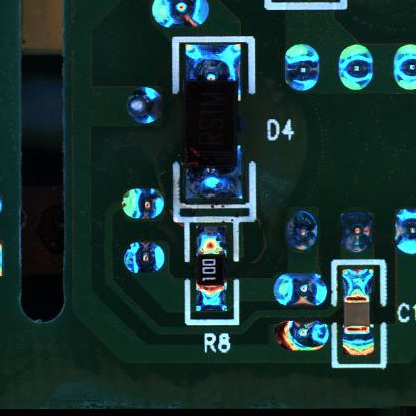spot: (271, 272, 329, 305), (149, 1, 212, 31), (273, 319, 329, 352), (283, 42, 319, 92), (339, 43, 373, 93), (121, 240, 166, 277), (340, 207, 374, 255), (124, 87, 166, 124), (119, 186, 164, 220), (285, 210, 320, 252), (392, 45, 416, 92), (393, 206, 416, 254)
